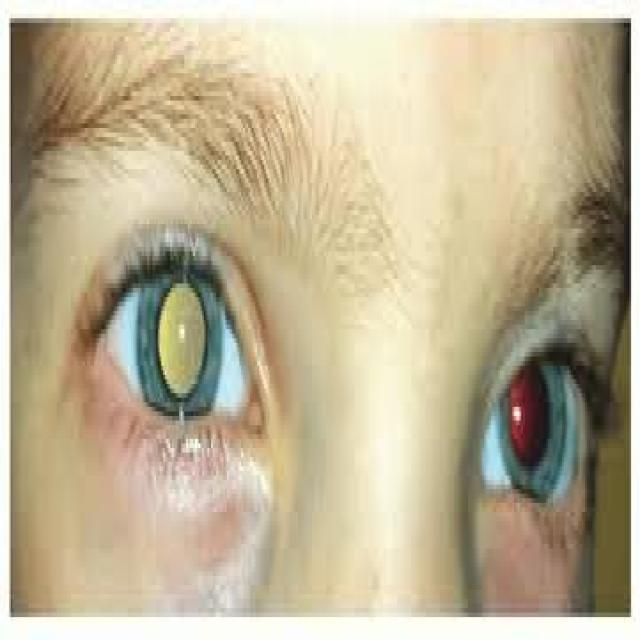reflexo-alterado: (117, 205, 241, 475)
reflexo-normal: (502, 325, 570, 525)
